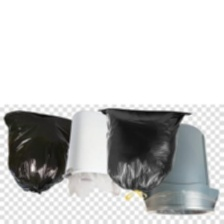plastic_bag: (94, 105, 196, 195), (0, 108, 75, 196), (64, 171, 123, 201)
